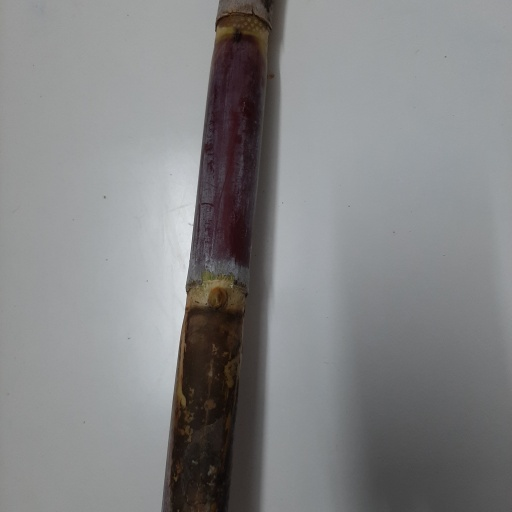Bud: (205, 286, 228, 311)
